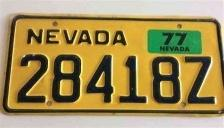1: (118, 53, 148, 105)
2: (17, 53, 51, 103)
4: (84, 51, 117, 105)
8: (49, 52, 84, 105), (149, 54, 183, 105)
Z: (184, 55, 219, 108)
